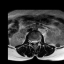CCS_normal: (33, 38, 35, 46)
LFS_normal: (37, 38, 39, 44)
LLS_normal: (35, 38, 37, 45)
RFS_normal: (30, 38, 32, 44)
RLS_normal: (32, 38, 33, 45)
